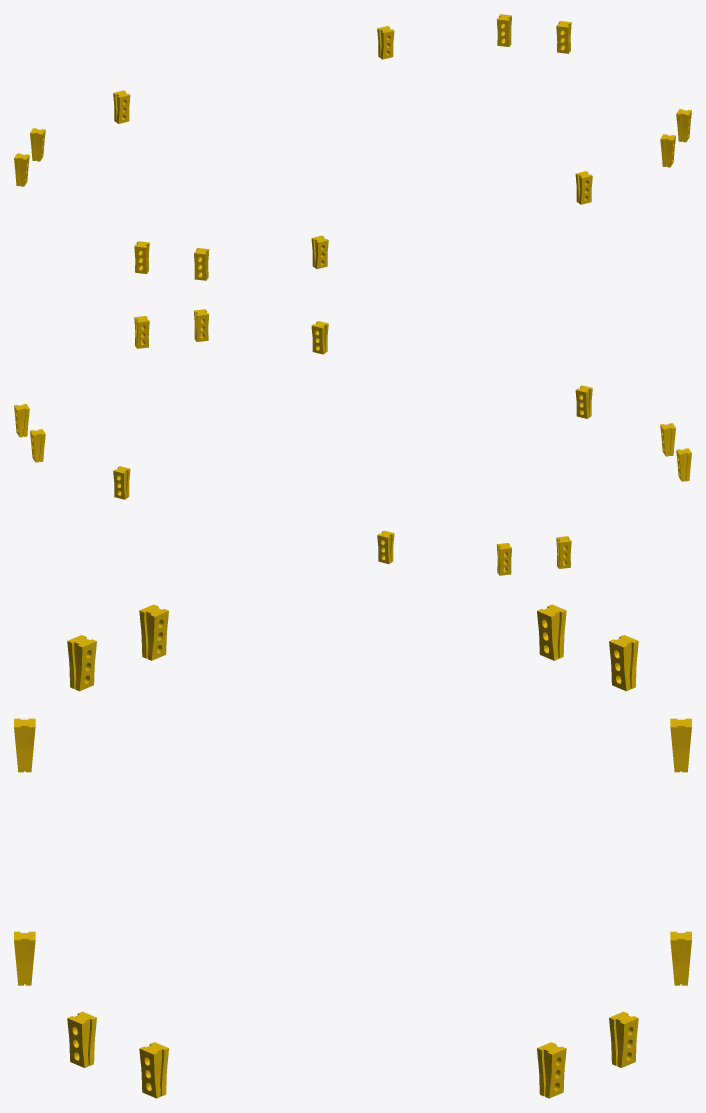
Rendered from mesh_Factory_Pillard.fbx.
The picture shows the model from 3 angles, top to bottom: view 1: azimuth 30°, elevation 25°; view 2: azimuth 150°, elevation 25°; view 3: azimuth 270°, elevation 25°; orthographic projection. The views are drawn at different scales.
Visible parts, largest first — view 1: PH_mesh_Factory_wall_Test3.001; view 2: PH_mesh_Factory_wall_Test3.001; view 3: PH_mesh_Factory_wall_Test3.001.
Boxes of the visible parts, box(x1,y1,x2,y2) form: PH_mesh_Factory_wall_Test3.001: box(14, 14, 691, 280); PH_mesh_Factory_wall_Test3.001: box(14, 309, 691, 575); PH_mesh_Factory_wall_Test3.001: box(14, 604, 691, 1098).
Bounding box in the file's own units: 53.83 × 2.52 × 34.25.
